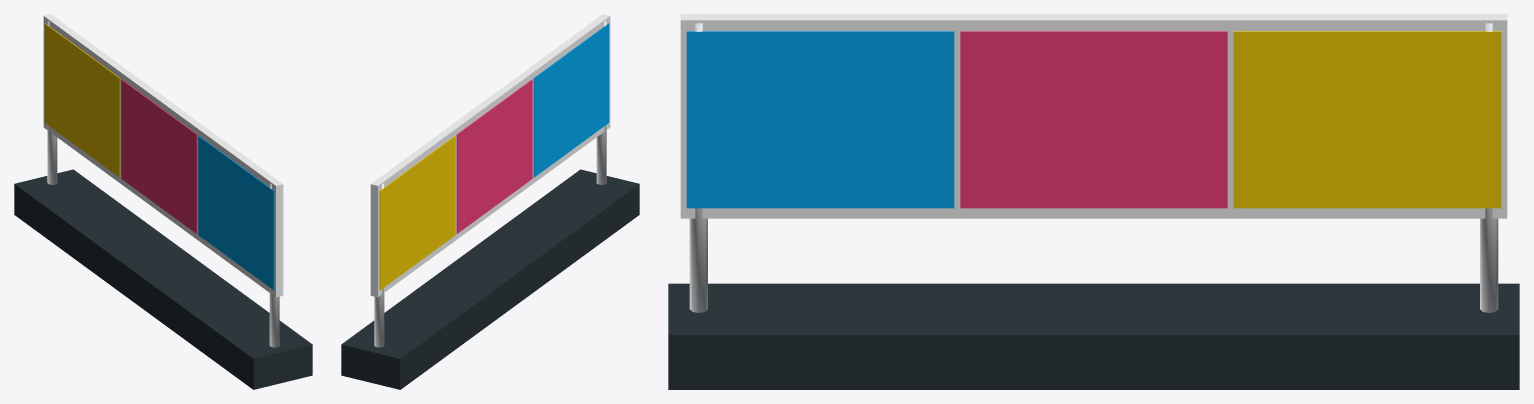
Rendered from Banner.glb.
3 renders of one model, left to right at view 1: azimuth 30°, elevation 25°; view 2: azimuth 150°, elevation 25°; view 3: azimuth 270°, elevation 25°, orthographic. The views are drawn at different scales.
Visible parts, largest first — view 1: Banner; view 2: Banner; view 3: Banner.
Part boxes in pixels (bbox=[...]): Banner: bbox=[14, 14, 312, 389]; Banner: bbox=[341, 14, 639, 389]; Banner: bbox=[668, 14, 1519, 389].
Bounding box in the file's own units: 2 × 6.3 × 14.
